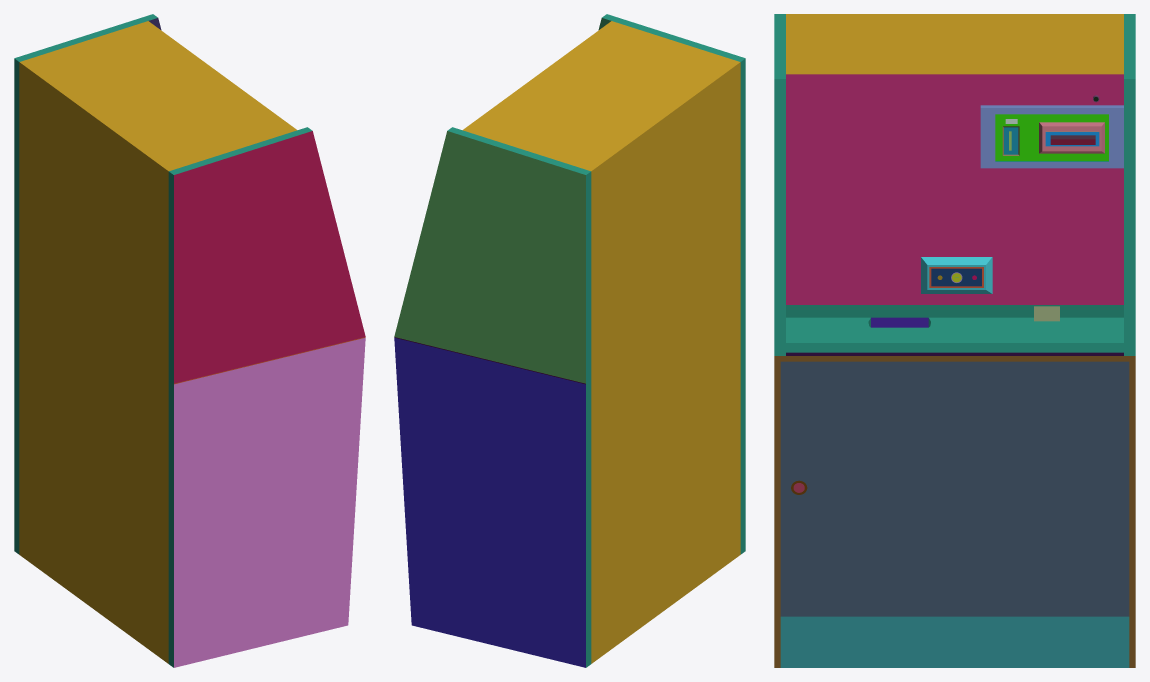
File: SM_changemachine.fbx
3 views of the same model, side by side, from view 1: azimuth 30°, elevation 25°; view 2: azimuth 150°, elevation 25°; view 3: azimuth 270°, elevation 25° (orthographic). The views are drawn at different scales.
Parts seen in each view (by area): view 1: file1; view 2: file1; view 3: file1.
Boxes of the visible parts, x1,y1,x2,y2 form: file1: (14,14,365,667); file1: (394,14,745,667); file1: (774,14,1135,667).
Size of the model in its own units: 48.9 by 123 by 70.49.
